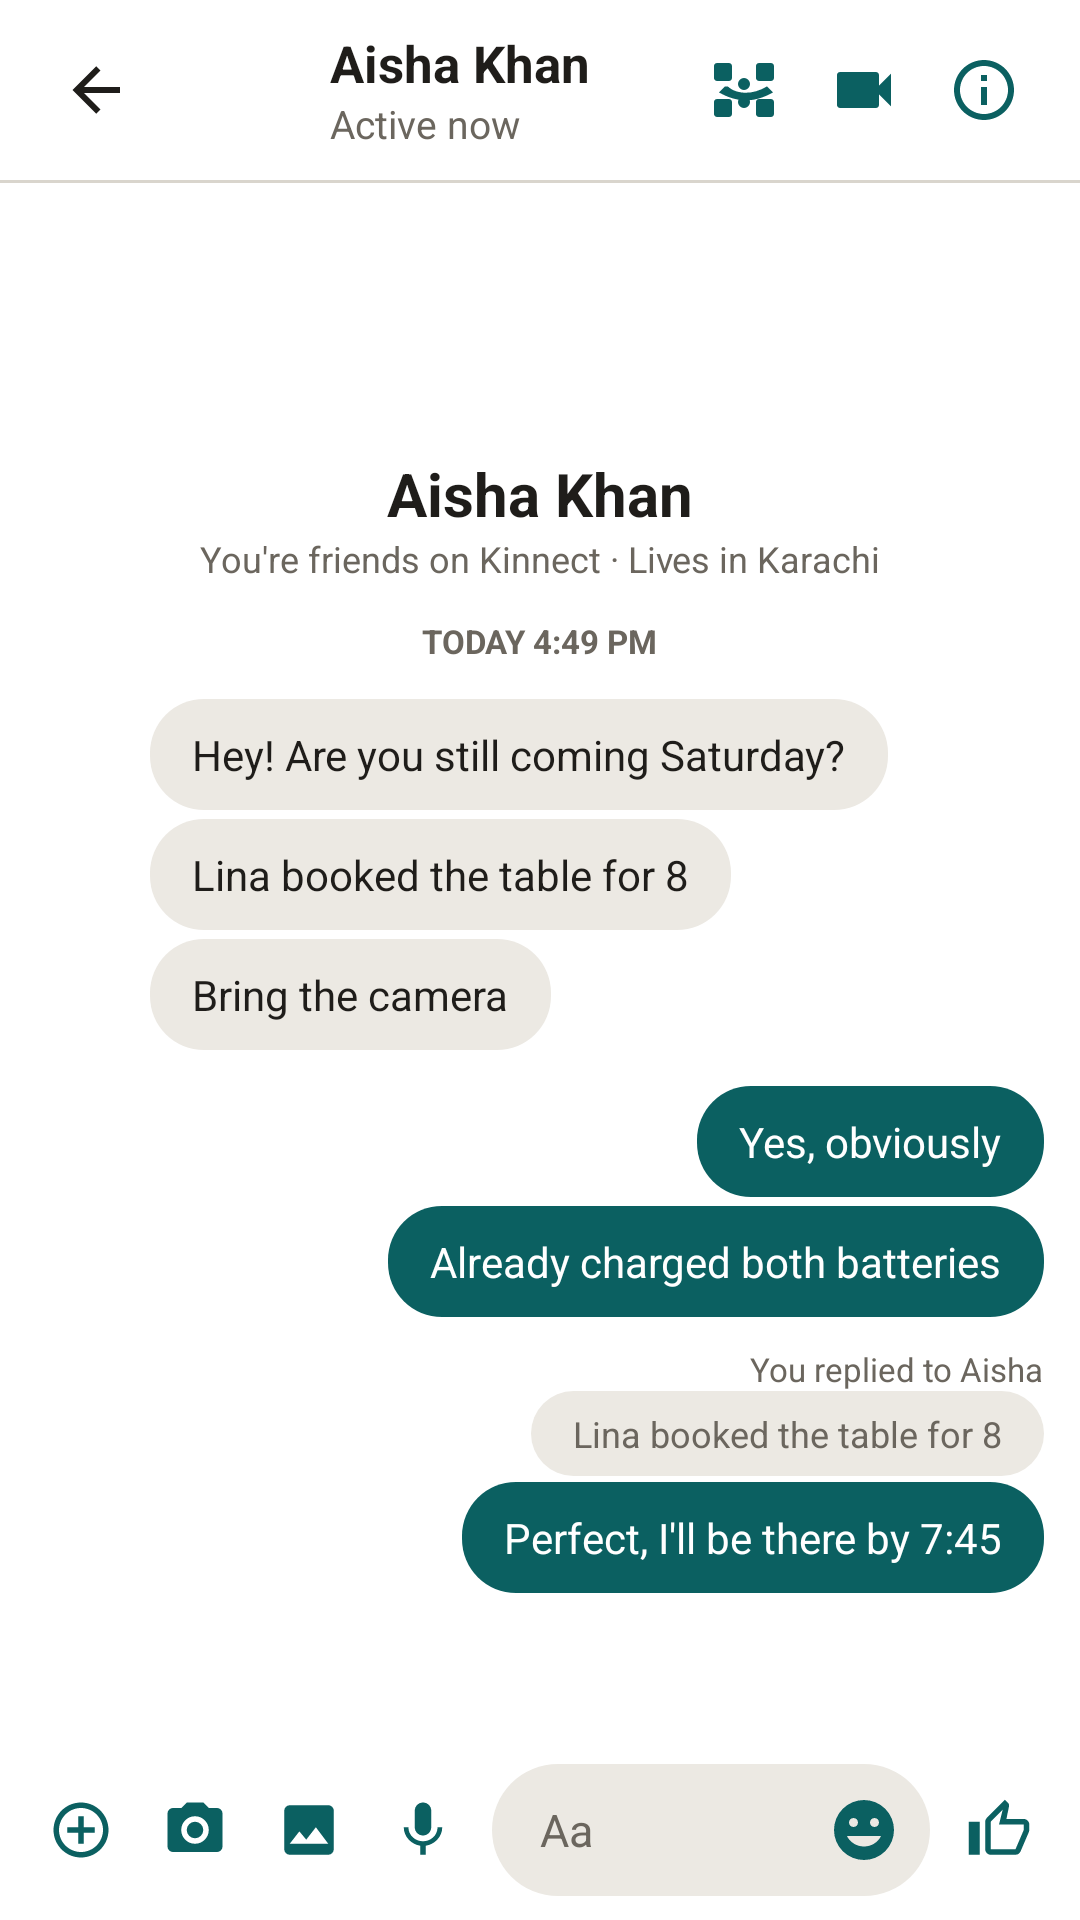

Point at icon controls on the screen. Image size 1080*1920, points as [x,y].
add circle: [81,1830]
arrow back: [96,90]
camera: [195,1827]
emoji smile: [864,1830]
info: [984,90]
mic: [423,1828]
photo: [309,1830]
thumb up: [999,1827]
video call: [864,90]
